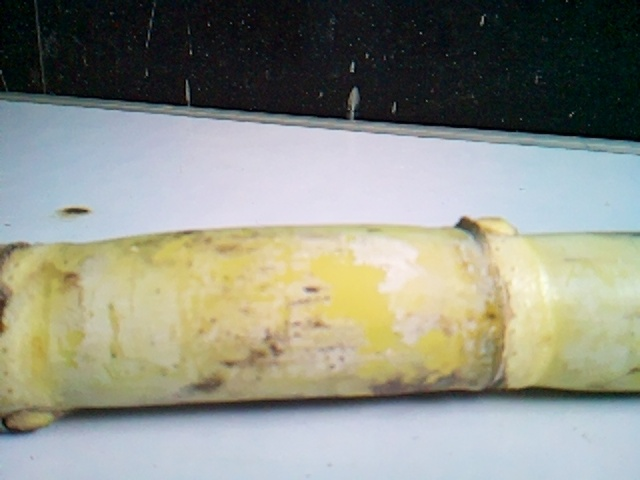Good Sugarcane: (3, 221, 640, 431)
Node: (432, 212, 563, 392)
